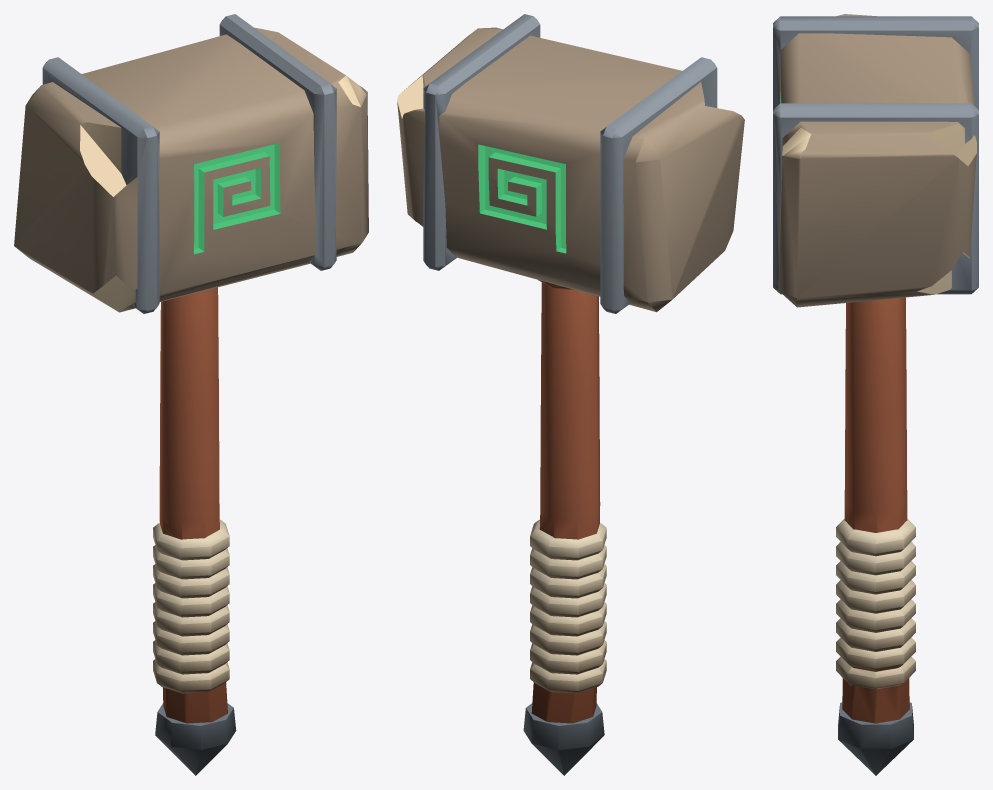
The model's file is warhammer_stone.glb.
3 views of the same model, side by side, from view 1: azimuth 30°, elevation 25°; view 2: azimuth 150°, elevation 25°; view 3: azimuth 270°, elevation 25° (orthographic).
Parts seen in each view (by area): view 1: Item; view 2: Item; view 3: Item.
Part boxes in pixels (<box>): Item: <box>14,14,368,775</box>; Item: <box>397,14,744,775</box>; Item: <box>773,14,978,775</box>.
Size of the model in its own units: 0.8852 by 2.13 by 0.56.
3 materials, 3 textured.
